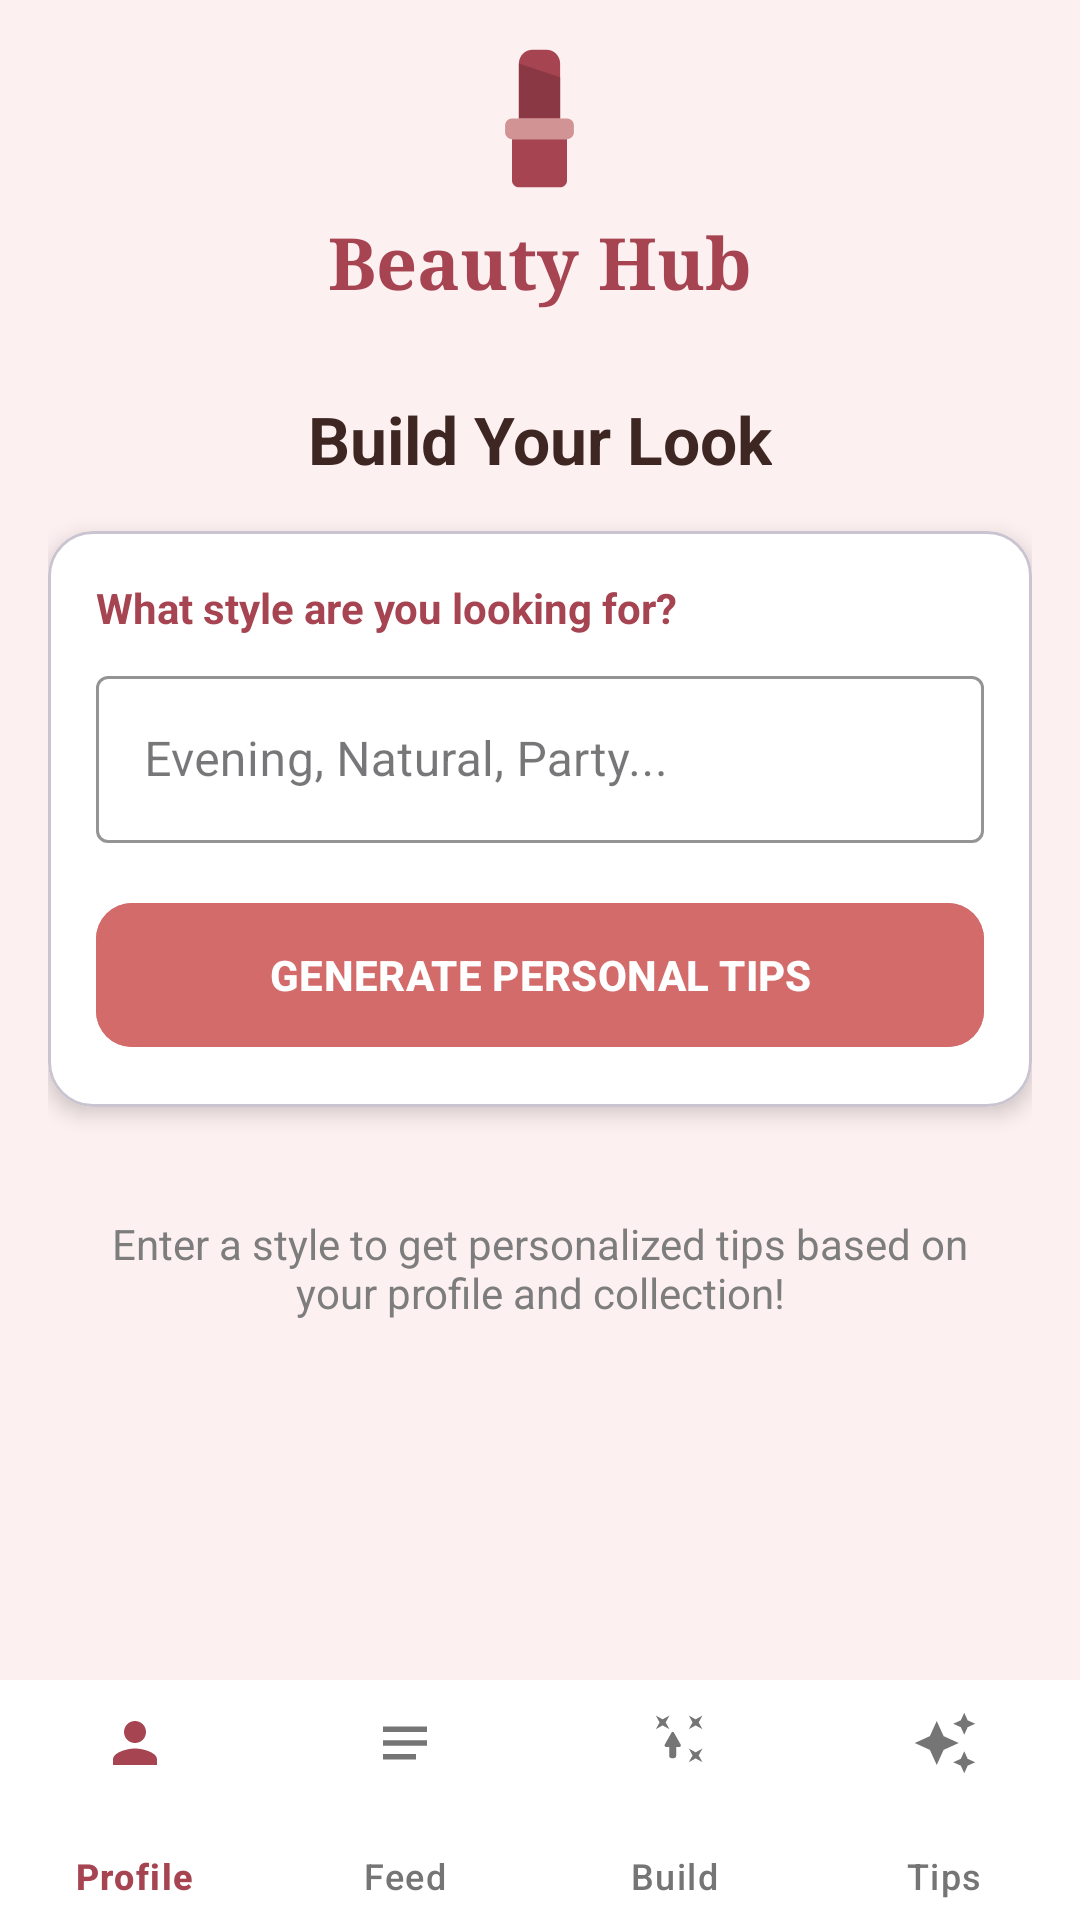

Where icons sit on this 1080px×1920px app screen, as (x1, y1, x2, y2):
lipstick: (505, 49, 574, 188)
